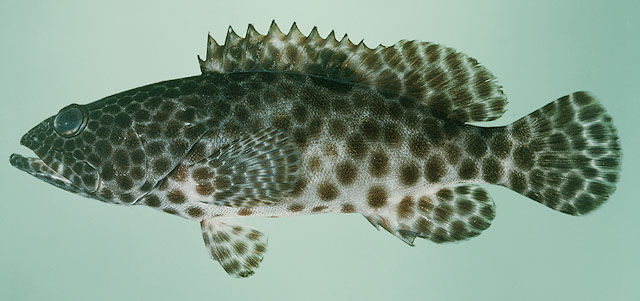fish: (8, 16, 622, 279)
